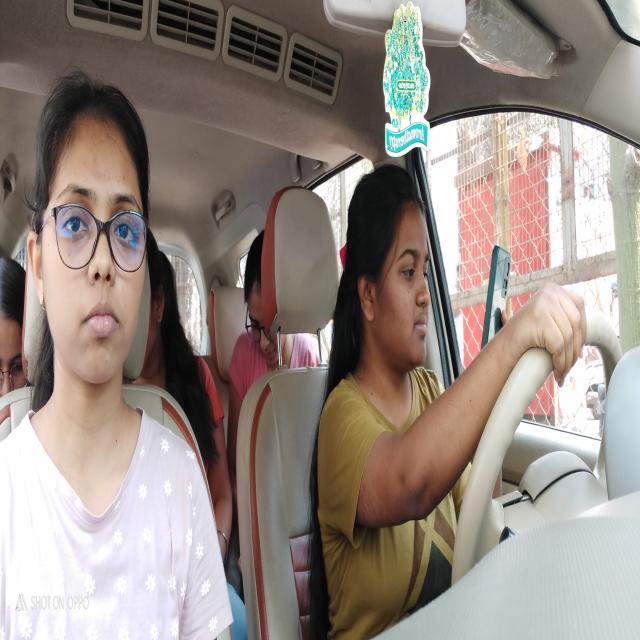mobile: (482, 245, 515, 368)
person: (30, 78, 152, 407), (342, 165, 438, 382), (0, 237, 35, 435), (244, 230, 282, 376), (145, 232, 175, 381)
